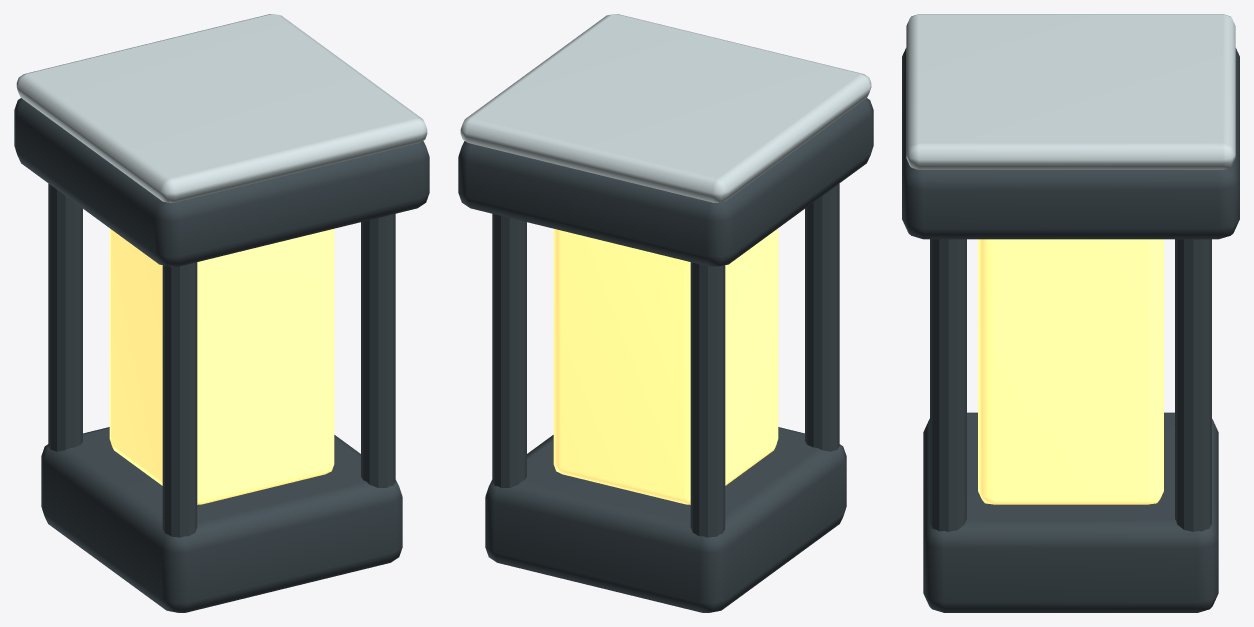
The model's file is lantern.glb.
3 views of the same model, side by side, from view 1: azimuth 30°, elevation 25°; view 2: azimuth 150°, elevation 25°; view 3: azimuth 270°, elevation 25° (orthographic). The views are drawn at different scales.
Parts seen in each view (by area): view 1: Snow, Glass, Base, Roof, Frame, Frame.002, Frame.001; view 2: Snow, Glass, Base, Roof, Frame.001, Frame.003, Frame; view 3: Snow, Glass, Base, Roof, Frame.002, Frame.003.
Part boxes in pixels (x1=…): Snow: x1=16, y1=14, x2=427, y2=202; Glass: x1=109, y1=228, x2=334, y2=504; Base: x1=41, y1=427, x2=402, y2=612; Roof: x1=14, y1=98, x2=429, y2=266; Frame: x1=162, y1=262, x2=197, y2=537; Frame.002: x1=361, y1=214, x2=395, y2=487; Frame.001: x1=48, y1=183, x2=82, y2=451; Snow: x1=460, y1=14, x2=871, y2=202; Glass: x1=553, y1=228, x2=778, y2=504; Base: x1=485, y1=427, x2=846, y2=612; Roof: x1=458, y1=98, x2=873, y2=266; Frame.001: x1=690, y1=262, x2=725, y2=537; Frame.003: x1=492, y1=214, x2=526, y2=487; Frame: x1=805, y1=183, x2=839, y2=451; Snow: x1=906, y1=14, x2=1235, y2=169; Glass: x1=978, y1=239, x2=1163, y2=504; Base: x1=923, y1=412, x2=1218, y2=612; Roof: x1=902, y1=48, x2=1239, y2=239; Frame.002: x1=930, y1=239, x2=966, y2=531; Frame.003: x1=1175, y1=239, x2=1211, y2=531.
Size of the model in its own units: 0.4 by 0.6275 by 0.4.
